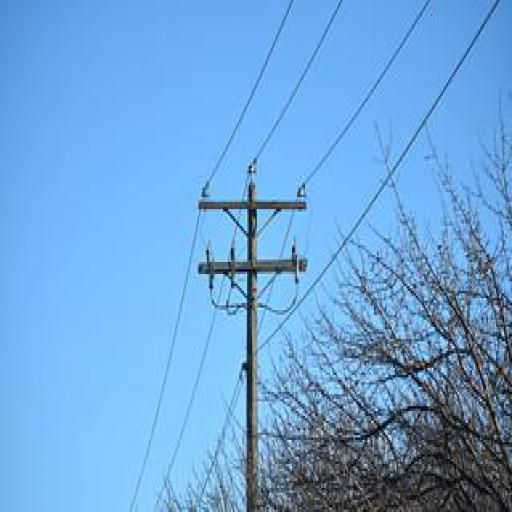mono_8: (196, 168, 311, 510)
